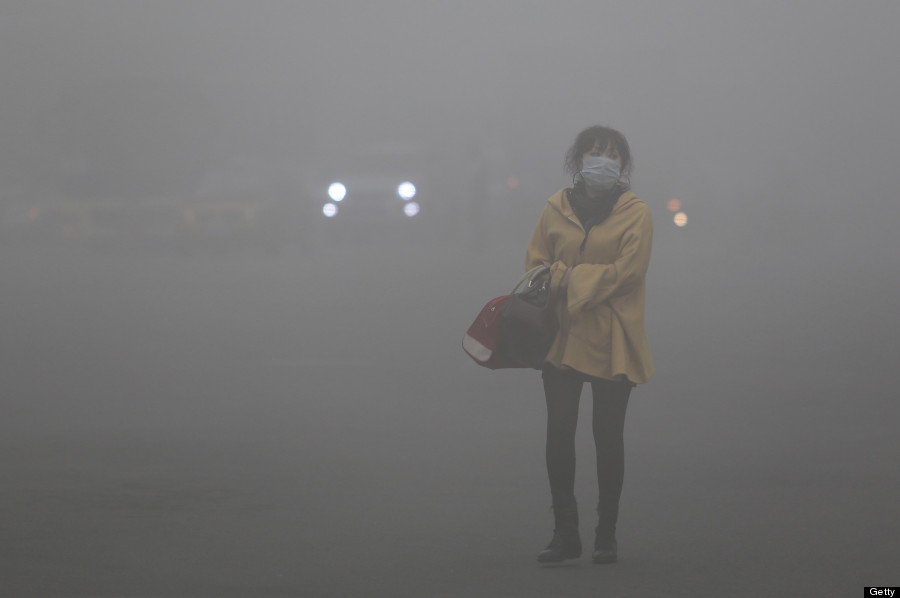face_mask: (579, 145, 620, 190)
